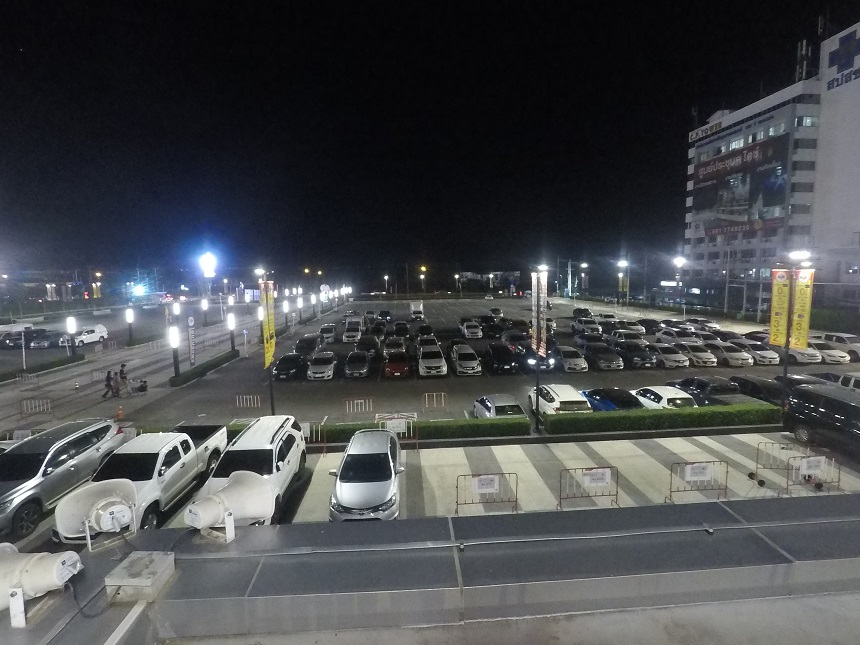busy: (332, 451, 400, 507), (120, 437, 204, 478), (230, 429, 294, 469), (22, 441, 87, 477), (804, 398, 860, 436), (528, 387, 582, 411), (467, 392, 519, 416), (697, 373, 733, 402), (643, 382, 693, 402), (742, 375, 777, 401), (592, 386, 632, 408), (308, 359, 338, 381), (416, 357, 447, 378), (833, 371, 860, 394), (381, 357, 411, 376), (453, 357, 481, 376), (489, 356, 518, 374), (273, 362, 300, 381), (722, 350, 754, 366), (783, 373, 813, 390), (342, 360, 370, 378), (598, 353, 625, 371), (791, 347, 818, 365), (663, 349, 687, 369), (632, 351, 657, 369), (528, 355, 553, 371), (562, 355, 585, 371), (834, 329, 858, 344), (695, 348, 714, 365), (758, 351, 779, 366), (826, 350, 847, 363)
